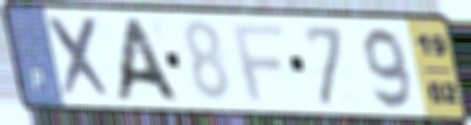7: (302, 24, 346, 107)
8: (180, 17, 233, 106)
9: (359, 24, 417, 111)
A: (110, 16, 184, 105)
F: (229, 22, 287, 104)
X: (44, 14, 117, 102)
